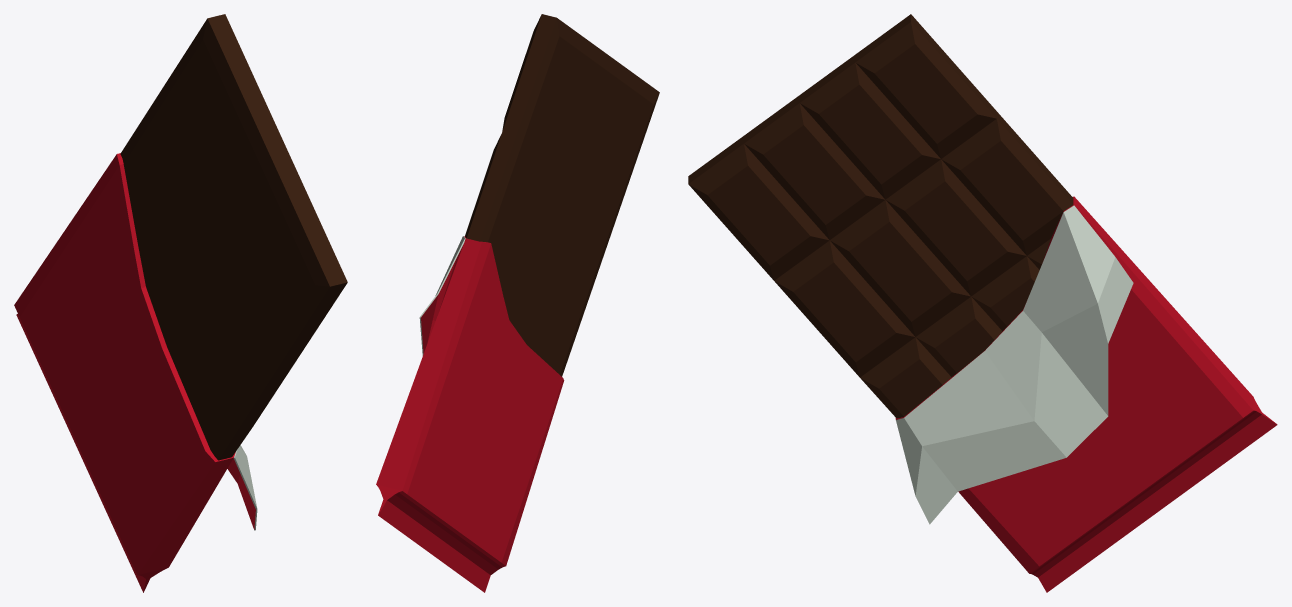
File: chocolate.glb
3 renders of one model, left to right at view 1: azimuth 30°, elevation 25°; view 2: azimuth 150°, elevation 25°; view 3: azimuth 270°, elevation 25°, orthographic. The views are drawn at different scales.
Parts seen in each view (by area): view 1: Chocolate; view 2: Chocolate; view 3: Chocolate.
Part boxes in pixels (<box>): Chocolate: <box>14,14,347,592</box>; Chocolate: <box>376,14,659,592</box>; Chocolate: <box>688,14,1277,592</box>.
Bounding box in the file's own units: 0.478 × 4.43 × 4.12.
